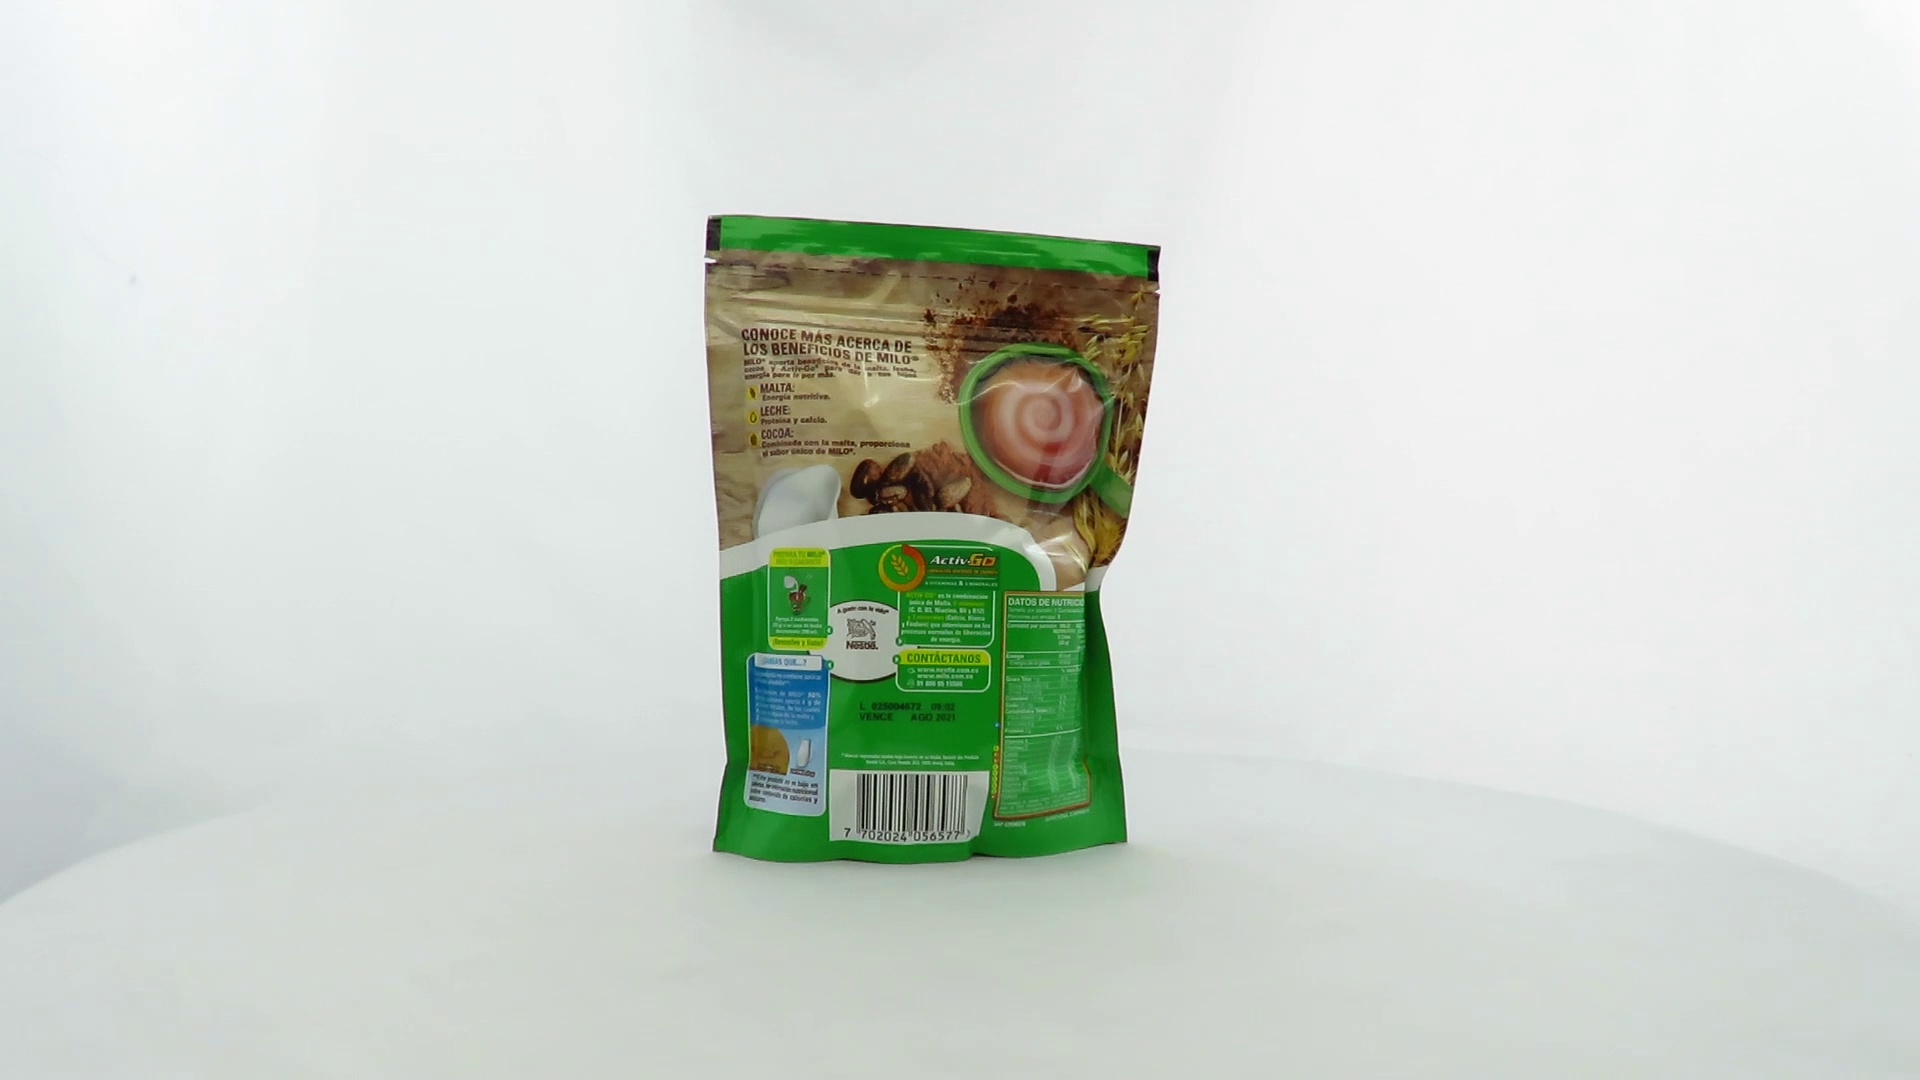COL0170205DYP20000: (699, 208, 1167, 872)
